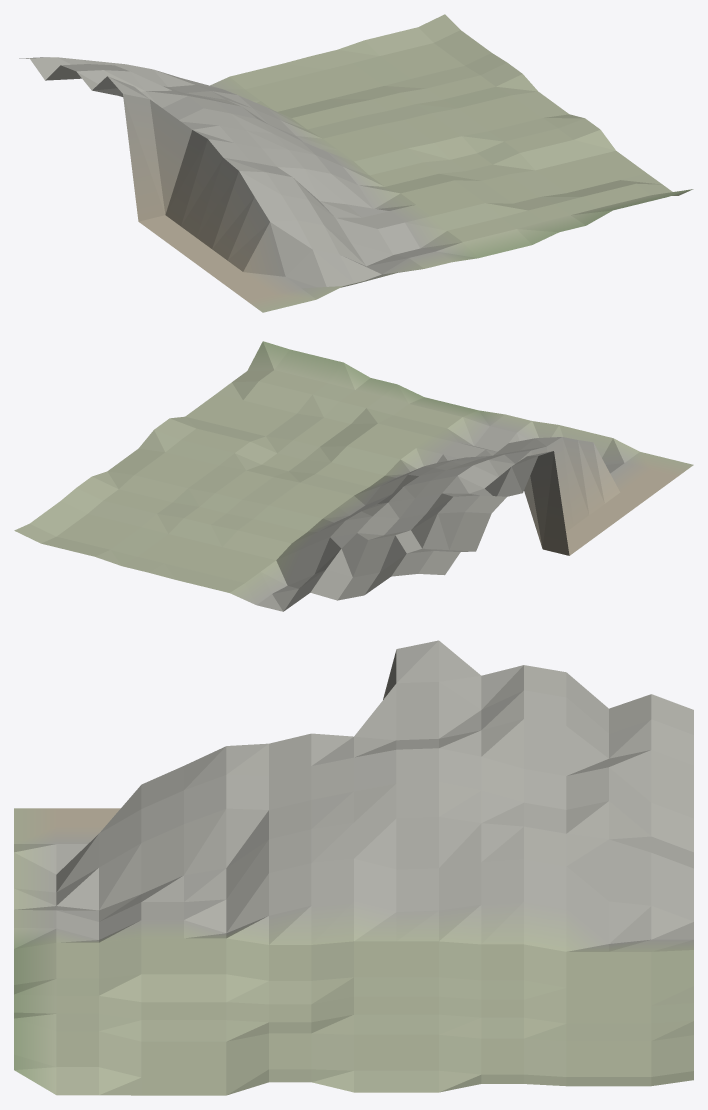
3 renders of one model, top to bottom at view 1: azimuth 30°, elevation 25°; view 2: azimuth 150°, elevation 25°; view 3: azimuth 270°, elevation 25°, orthographic. The views are drawn at different scales.
Size of the model in its own units: 32 by 9.36 by 32.
